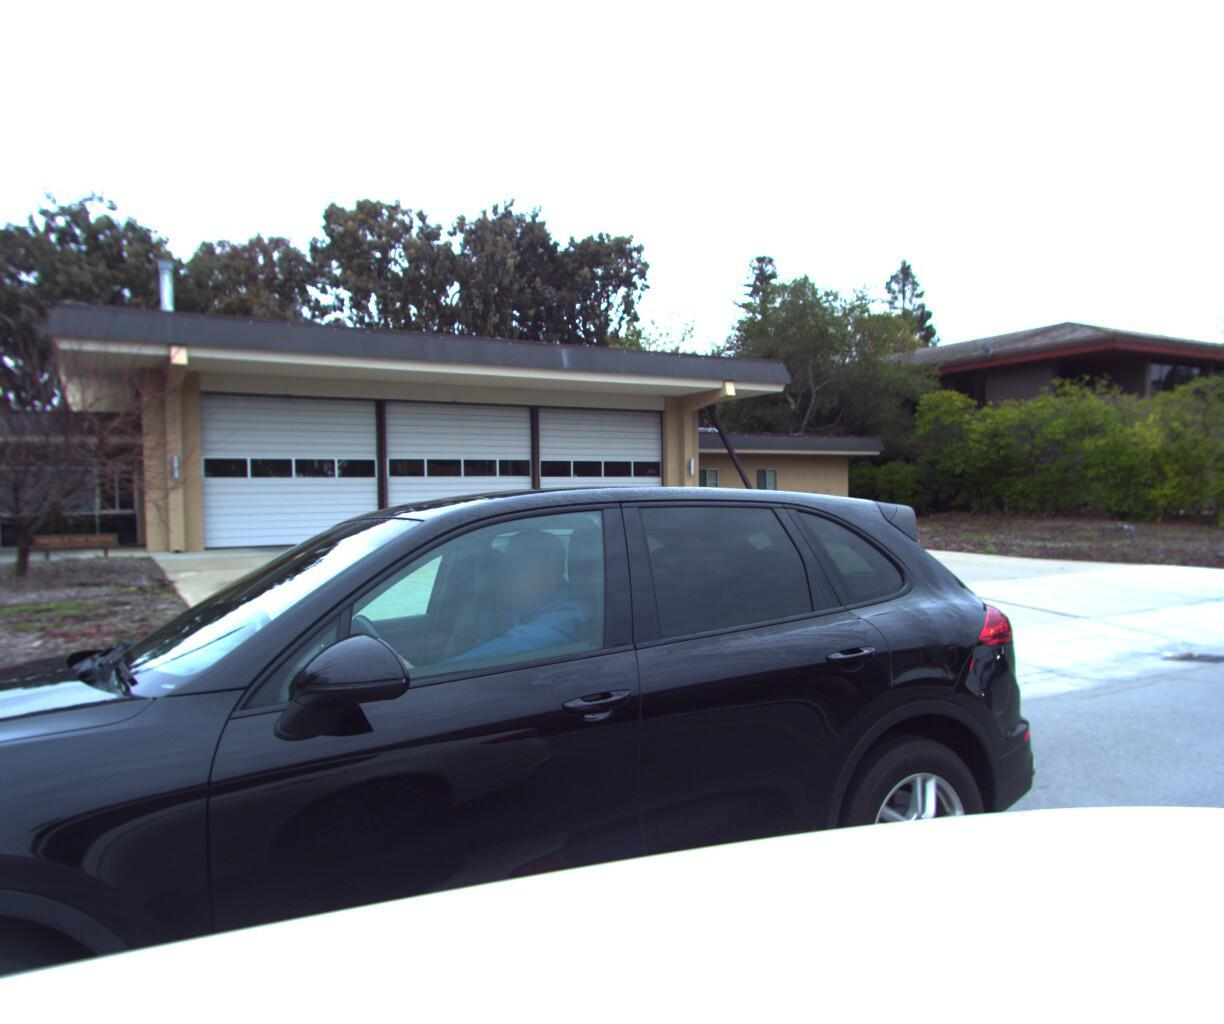car: (0, 281, 1101, 1024)
